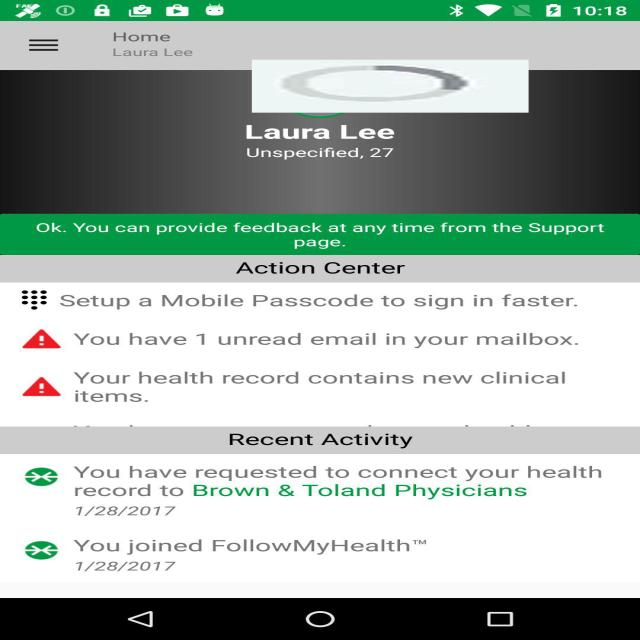misdirection: (252, 59, 528, 112)
